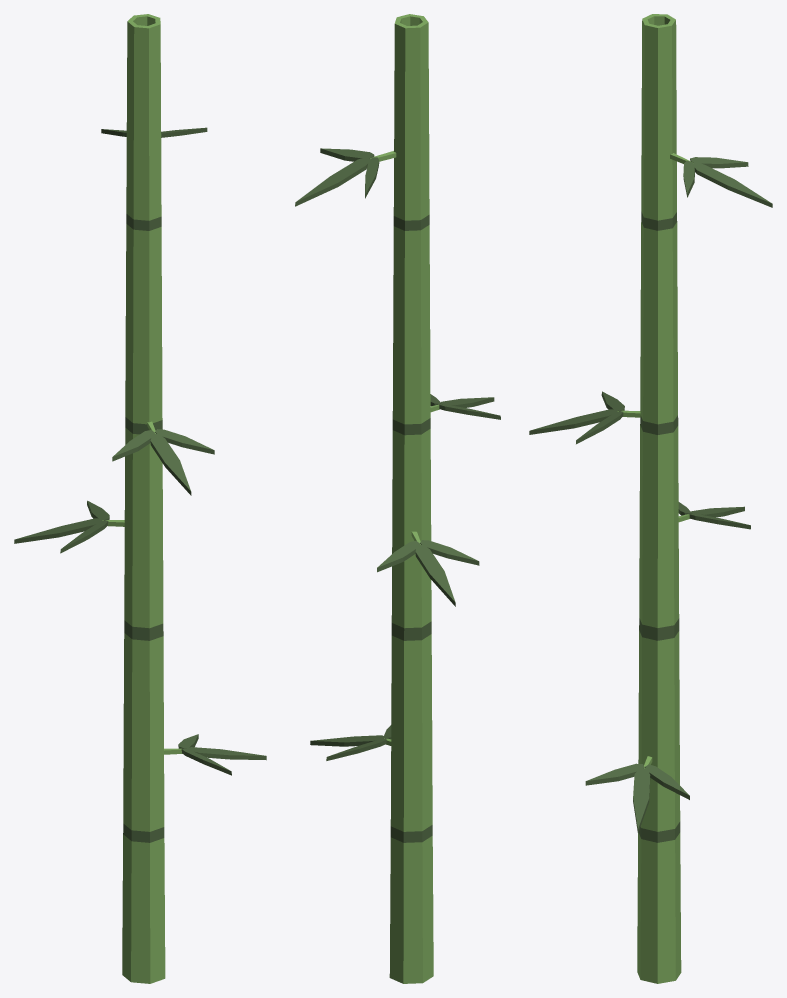
Rendered from Bamboo_3.glb.
The picture shows the model from 3 angles, left to right: view 1: azimuth 30°, elevation 25°; view 2: azimuth 150°, elevation 25°; view 3: azimuth 270°, elevation 25°; orthographic projection.
Parts seen in each view (by area): view 1: Bamboo_3; view 2: Bamboo_3; view 3: Bamboo_3.
Part boxes in pixels (x1,y1,x2,y2): Bamboo_3: [14, 14, 266, 983]; Bamboo_3: [295, 14, 500, 983]; Bamboo_3: [529, 14, 772, 983].
Size of the model in its own units: 0.3381 by 1.55 by 0.358.
